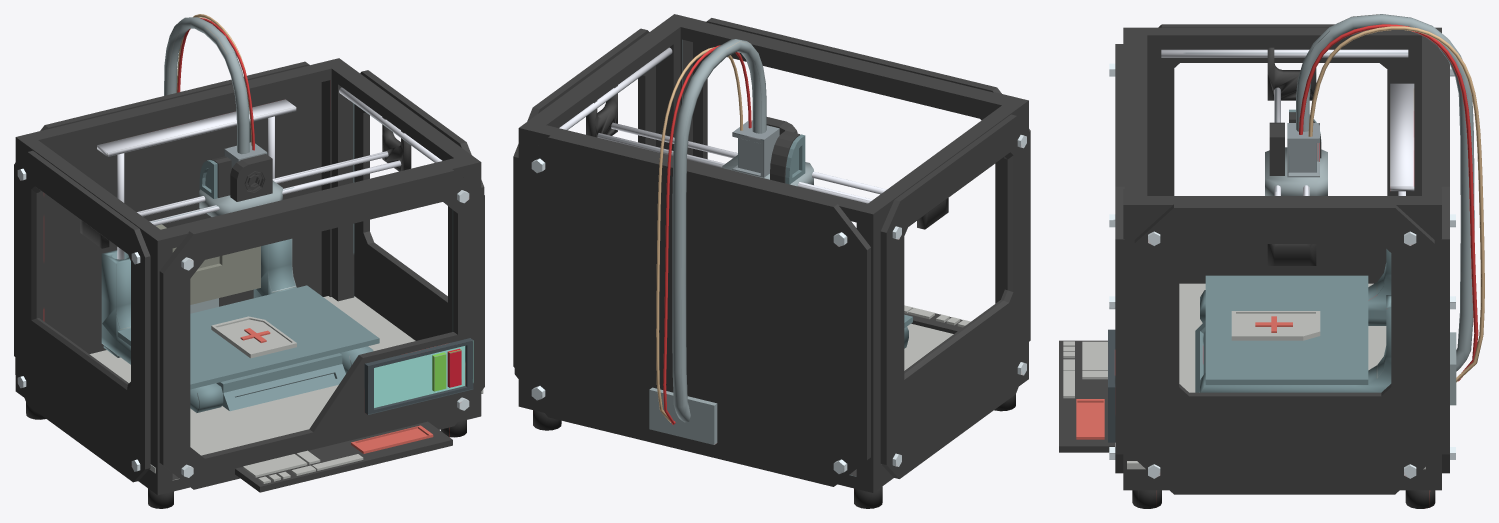
The model's file is 3DPrinter.fbx.
3 renders of one model, left to right at view 1: azimuth 30°, elevation 25°; view 2: azimuth 150°, elevation 25°; view 3: azimuth 270°, elevation 25°, orthographic. The views are drawn at different scales.
Parts seen in each view (by area): view 1: ScreenBase, Podstavka, Keyboard, Laser, Provoda, Ventiliator, Icon; view 2: ScreenBase, Provoda, Laser, Ventiliator, Keyboard; view 3: ScreenBase, Podstavka, Provoda, Keyboard, Laser, Ventiliator, Icon.
Part boxes in pixels (x1,y1,x2,y2): ScreenBase: (14,58,484,508); Podstavka: (97,99,379,412); Keyboard: (235,421,452,492); Laser: (80,117,411,248); Provoda: (164,14,254,154); Ventiliator: (199,142,272,201); Icon: (211,316,296,358); ScreenBase: (513,14,1030,508); Provoda: (656,39,766,424); Laser: (586,85,948,229); Ventiliator: (732,117,805,184); Keyboard: (904,305,970,327); ScreenBase: (1108,24,1456,508); Podstavka: (1195,83,1414,392); Provoda: (1296,14,1484,382); Keyboard: (1059,340,1114,452); Laser: (1265,47,1327,265); Ventiliator: (1269,109,1321,177); Icon: (1231,311,1320,340).
Bounding box in the file's own units: 6.46 × 6.56 × 6.17.
Materials: 1 (1 with a texture image).
